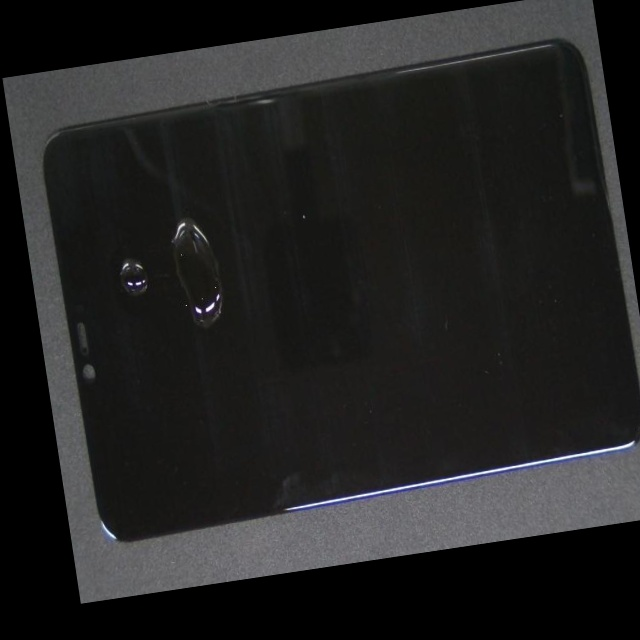oil: (91, 91, 265, 324), (62, 133, 180, 387)
